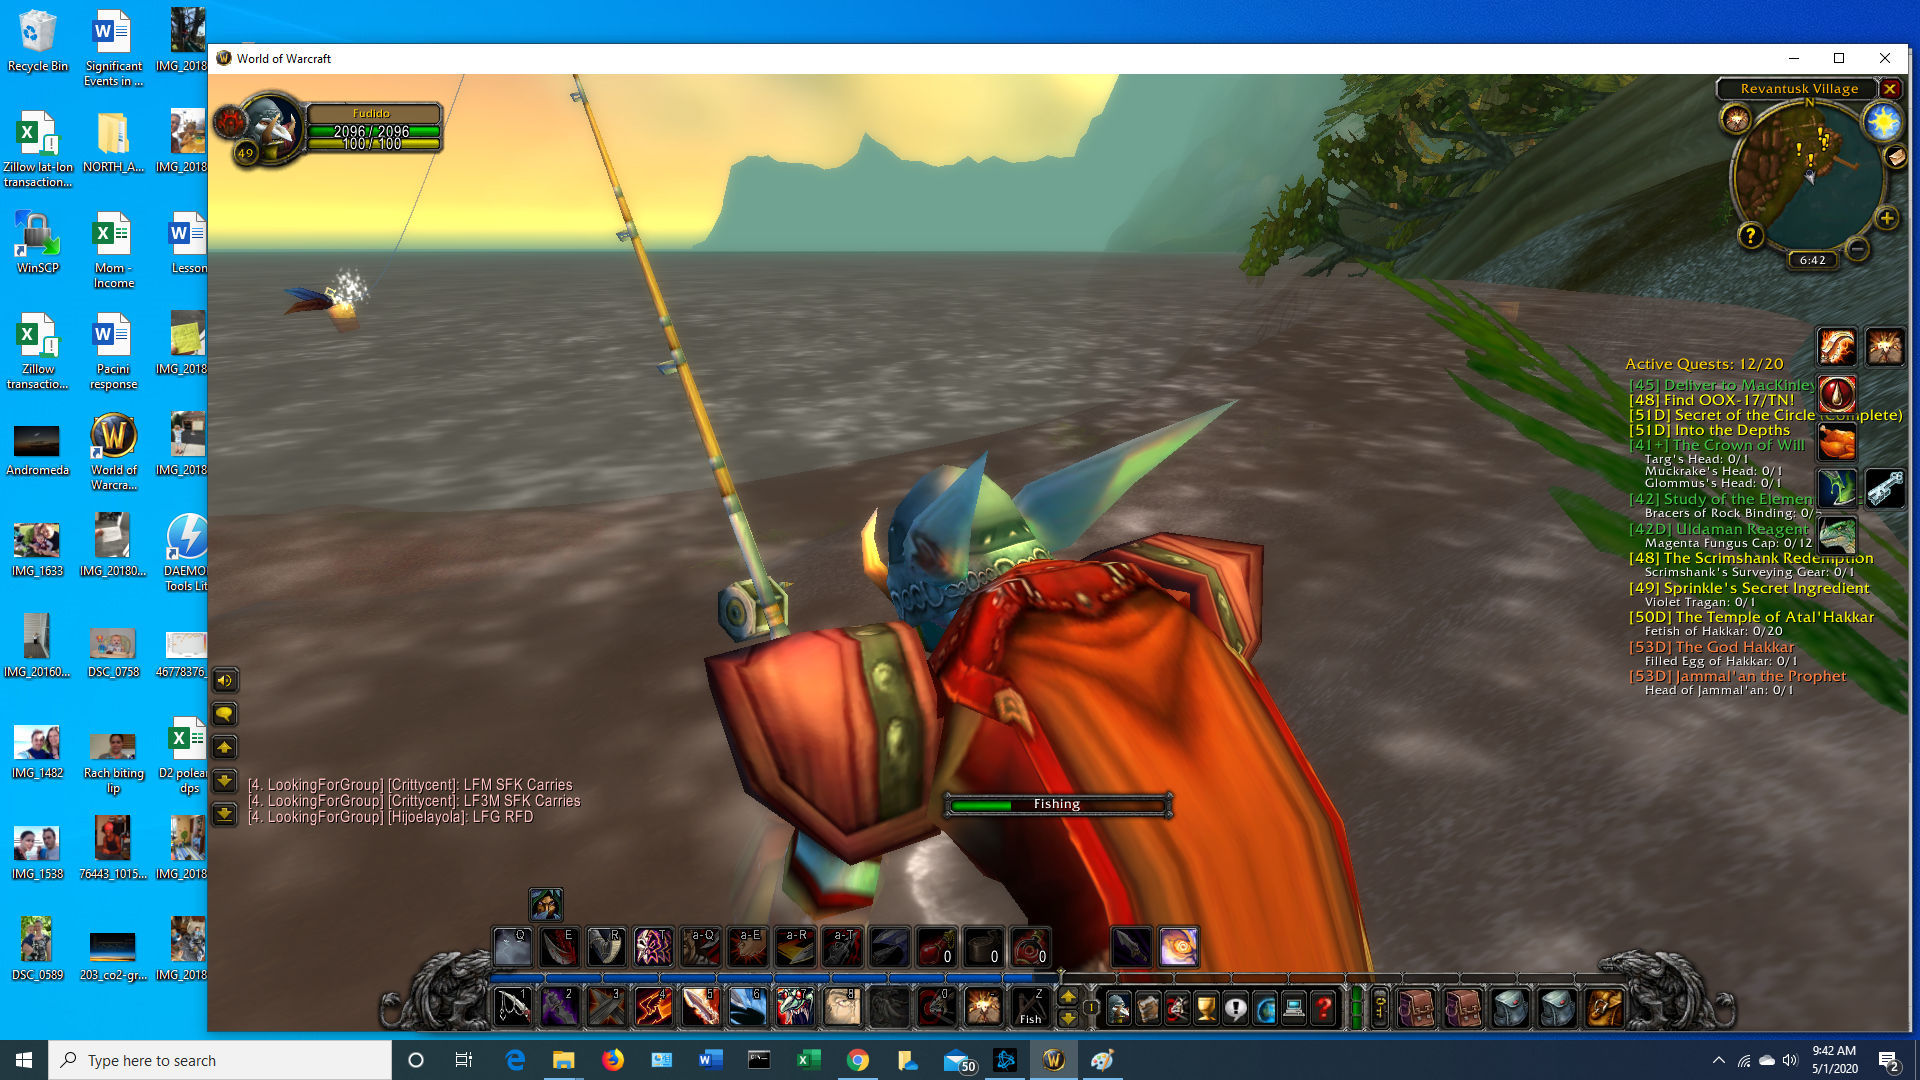bobble: (281, 278, 371, 349)
